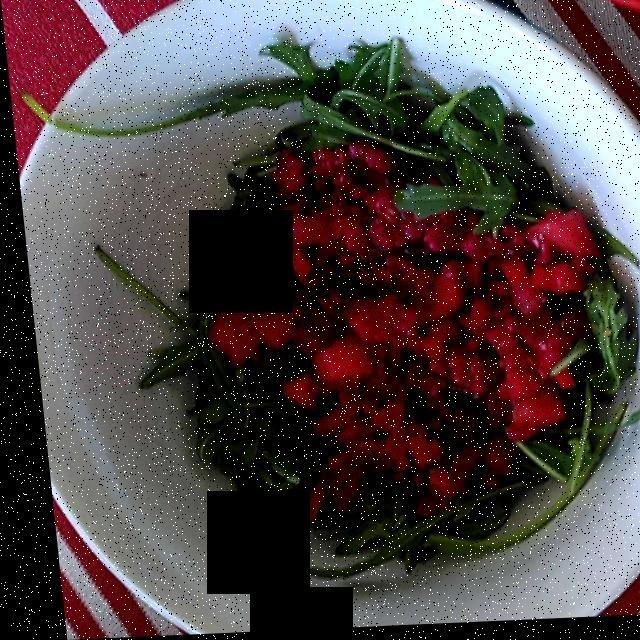bulgur: (228, 142, 596, 539)
mixed-vegetables: (222, 203, 576, 469)
salad: (31, 56, 633, 602)
